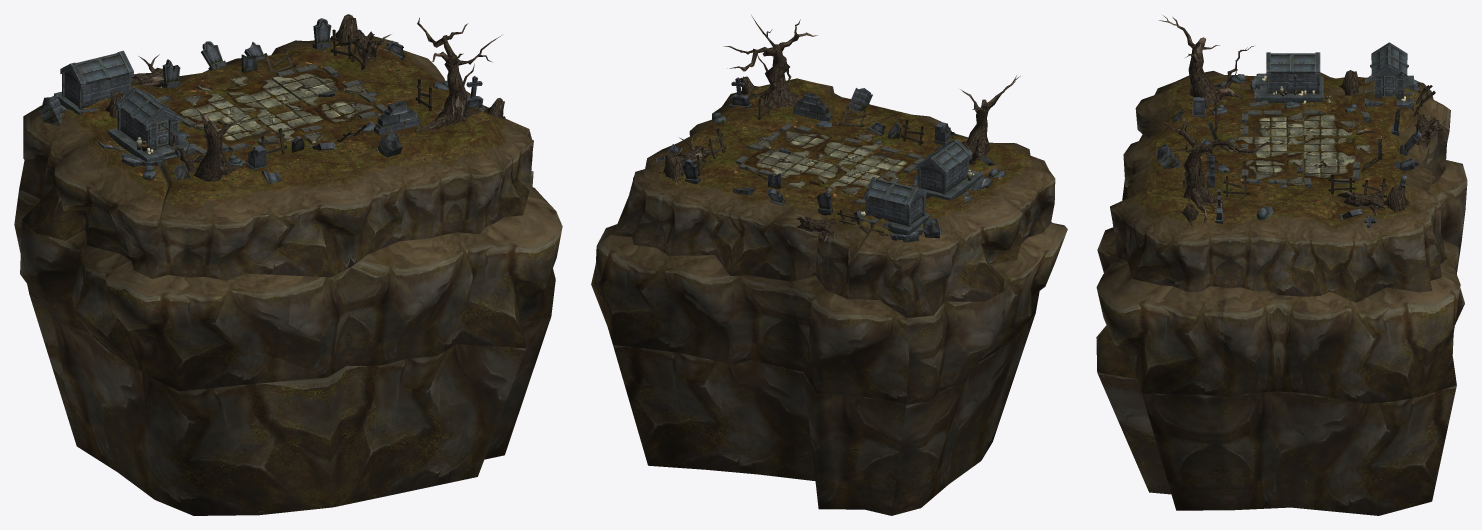
The model's file is cell1L_R1.fbx.
The picture shows the model from 3 angles, left to right: view 1: azimuth 30°, elevation 25°; view 2: azimuth 150°, elevation 25°; view 3: azimuth 270°, elevation 25°; orthographic projection. The views are drawn at different scales.
Parts seen in each view (by area): view 1: cell1L_R1; view 2: cell1L_R1; view 3: cell1L_R1.
Part boxes in pixels (x1=…): cell1L_R1: x1=14, y1=14, x2=562, y2=515; cell1L_R1: x1=591, y1=15, x2=1067, y2=515; cell1L_R1: x1=1096, y1=15, x2=1467, y2=515.
Size of the model in its own units: 25.71 by 23.37 by 21.3.
